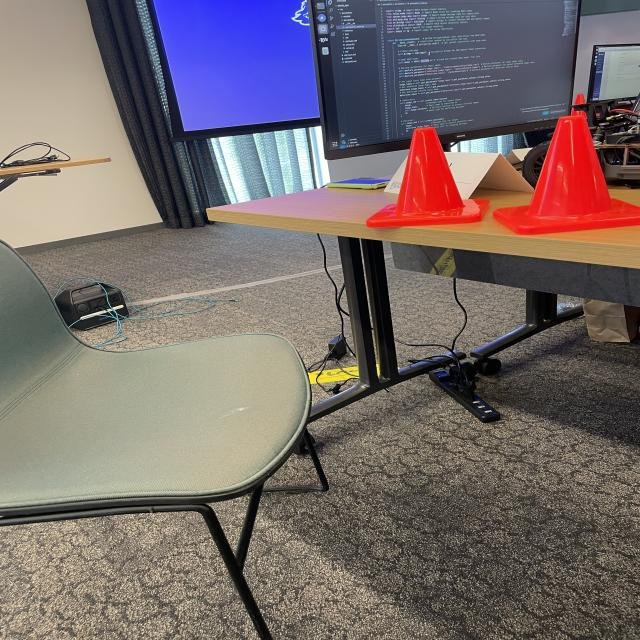Traffic Cone: (493, 111, 640, 243), (360, 122, 504, 237)
